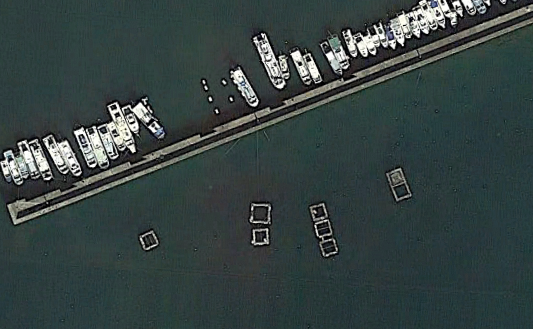ship: (251, 29, 287, 90), (227, 63, 261, 109), (112, 103, 135, 154), (289, 44, 312, 86), (136, 104, 164, 136), (47, 138, 67, 173), (33, 140, 50, 180), (90, 128, 106, 168), (61, 142, 79, 177), (78, 130, 95, 167), (20, 141, 37, 178), (323, 42, 342, 74), (331, 33, 348, 67), (305, 51, 321, 83), (101, 124, 116, 158), (6, 150, 21, 184), (275, 51, 292, 79), (422, 1, 437, 29), (124, 104, 137, 134), (392, 16, 405, 45), (383, 20, 396, 48), (109, 123, 123, 149), (416, 6, 428, 34), (345, 29, 356, 56), (409, 11, 420, 38), (402, 14, 412, 39), (377, 23, 387, 46), (2, 161, 12, 184), (356, 34, 366, 56), (365, 33, 375, 54), (370, 26, 379, 47)
square: (247, 199, 275, 227), (137, 226, 163, 254), (391, 180, 419, 206), (316, 235, 344, 260), (383, 163, 411, 187), (250, 222, 273, 251), (306, 197, 331, 223), (312, 216, 338, 241)
